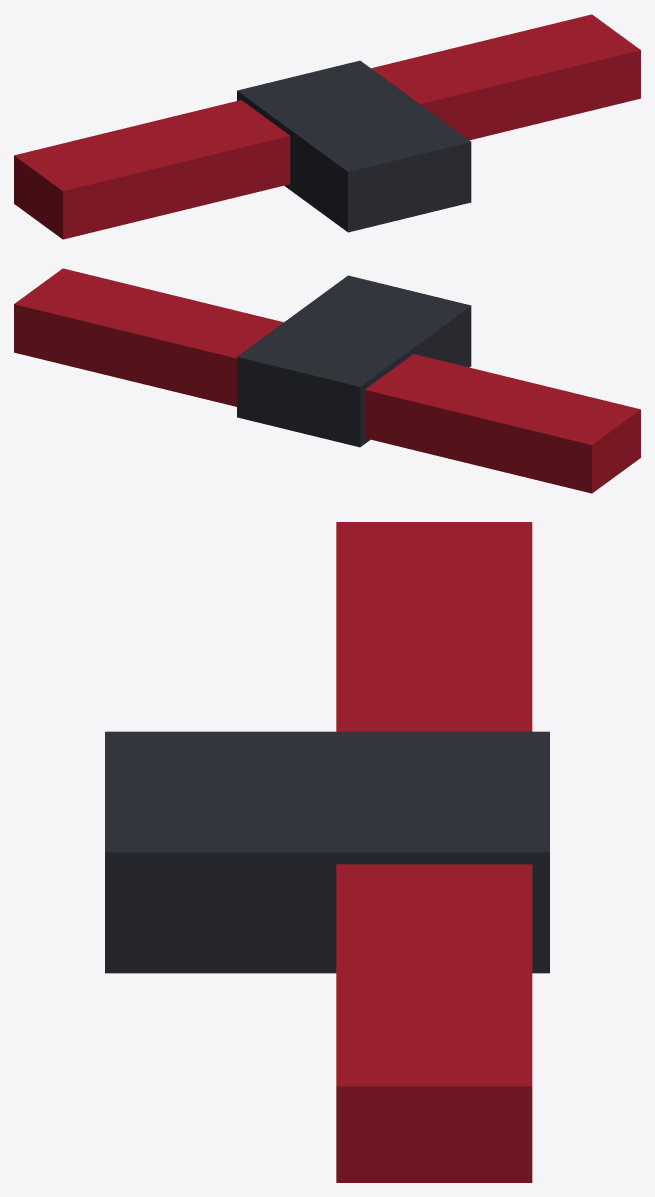
File: batarang.glb
3 renders of one model, top to bottom at view 1: azimuth 30°, elevation 25°; view 2: azimuth 150°, elevation 25°; view 3: azimuth 270°, elevation 25°, orthographic. The views are drawn at different scales.
Parts seen in each view (by area): view 1: part_0, part_1; view 2: part_0, part_1; view 3: part_0, part_1.
Boxes of the visible parts, x1,y1,x2,y2 form: part_0: (14,14,640,239); part_1: (237,60,471,232); part_0: (14,268,640,493); part_1: (237,275,471,447); part_0: (336,522,532,1182); part_1: (105,731,549,973).
Bounding box in the file's own units: 1.5 × 0.15 × 0.5.
